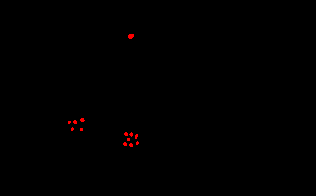Target: (128, 34, 134, 39), (80, 118, 85, 122), (129, 132, 133, 137), (73, 120, 77, 124), (124, 132, 128, 136), (123, 142, 127, 146), (129, 143, 133, 147), (135, 134, 138, 139), (71, 127, 74, 131), (136, 141, 139, 145), (68, 121, 71, 124), (80, 128, 83, 131), (127, 138, 130, 141)
